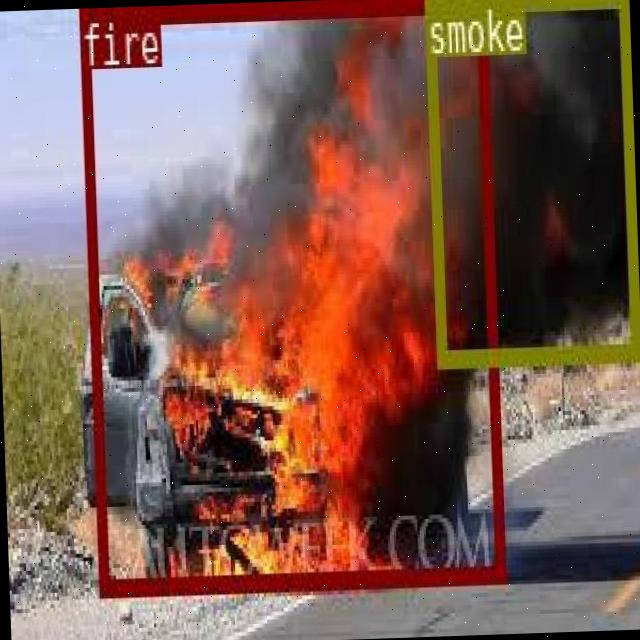fire: (76, 0, 502, 591)
smoke: (421, 0, 637, 362)
